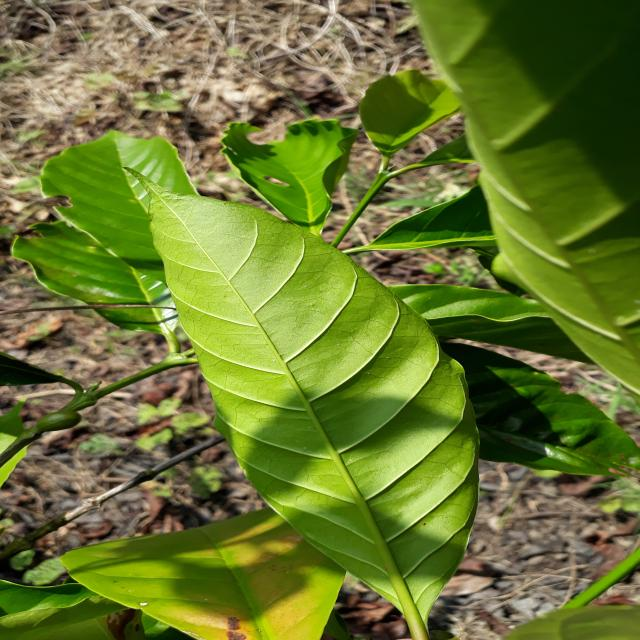Sanas: (111, 135, 479, 640)
